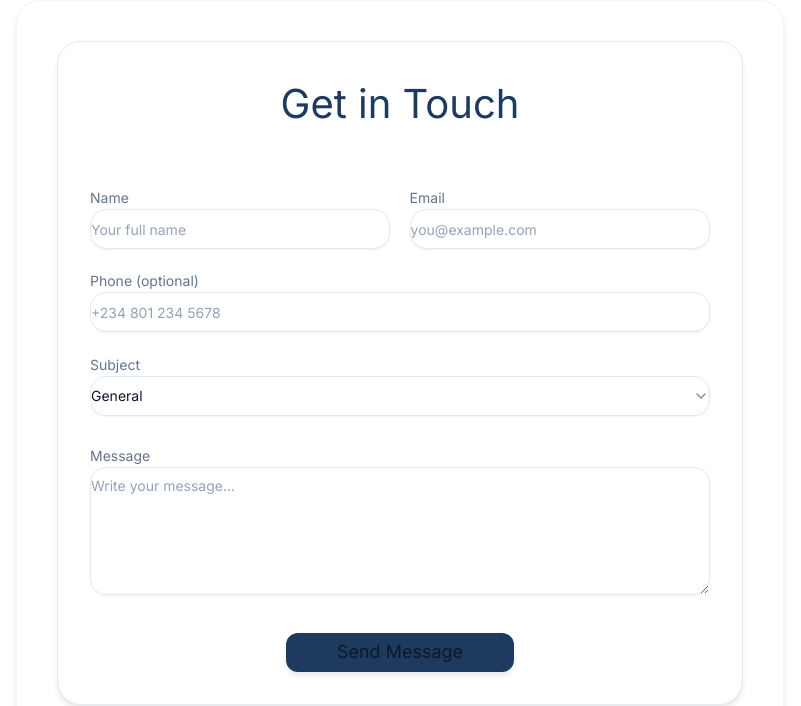
Test case: Story 1.6 - Contact Page Tests › Unit Tests - ContactForm Validation › validates required fields correctly
Note: Submit empty form
Click the button "Send Message". click: (400, 652)
box: left=286, top=633, right=514, bottom=672
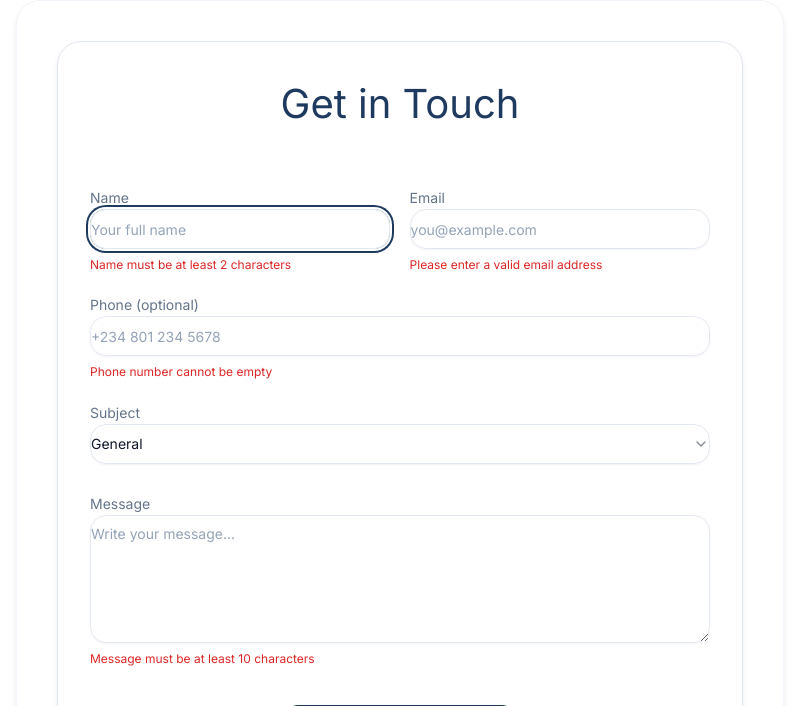
Check: the text "Name must be at least 2 characters" is shown, box left=90, top=257, right=291, bottom=272
Check: the text "Please enter a valid email address" is shown, box left=410, top=257, right=602, bottom=272
Check: the text "Message must be at least 10 characters" is shown, box left=90, top=651, right=315, bottom=666
